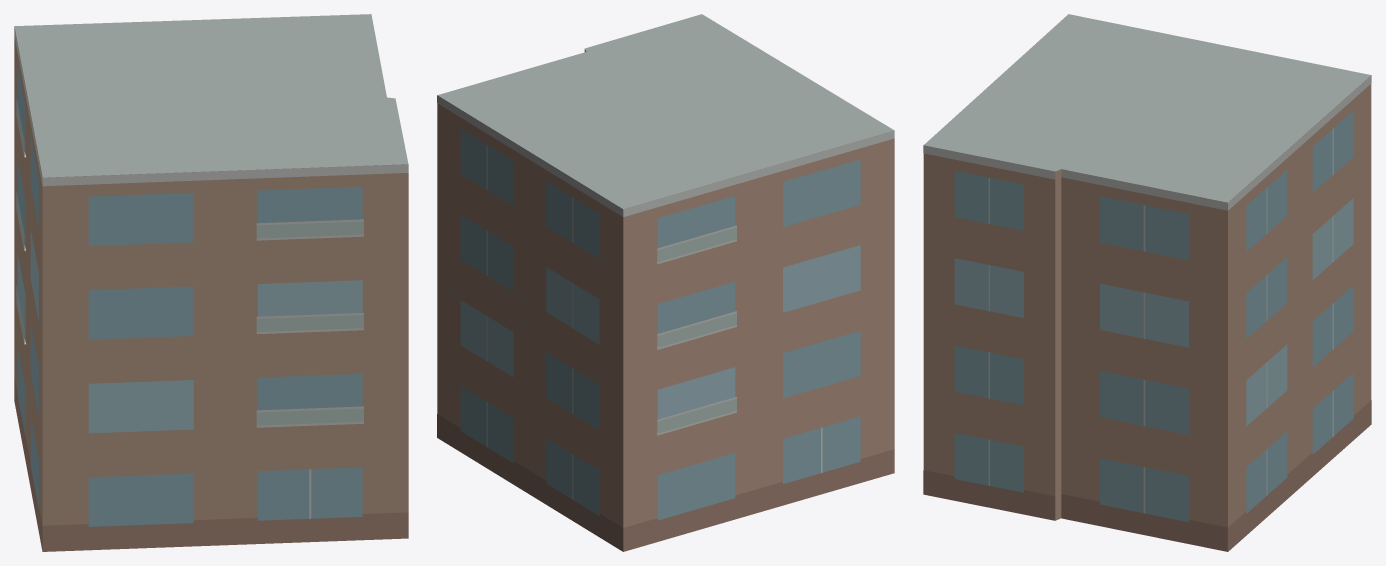
Rendered from survey-upis-32481958.glb.
3 views of the same model, side by side, from view 1: azimuth 30°, elevation 25°; view 2: azimuth 150°, elevation 25°; view 3: azimuth 270°, elevation 25° (orthographic). The views are drawn at different scales.
Parts seen in each view (by area): view 1: survey-upis-32481958.tmp; view 2: survey-upis-32481958.tmp; view 3: survey-upis-32481958.tmp.
Part boxes in pixels (x1=…): survey-upis-32481958.tmp: x1=14, y1=14, x2=408, y2=551; survey-upis-32481958.tmp: x1=437, y1=14, x2=894, y2=551; survey-upis-32481958.tmp: x1=923, y1=14, x2=1371, y2=551.
Size of the model in its own units: 12.17 by 10.5 by 12.22.
